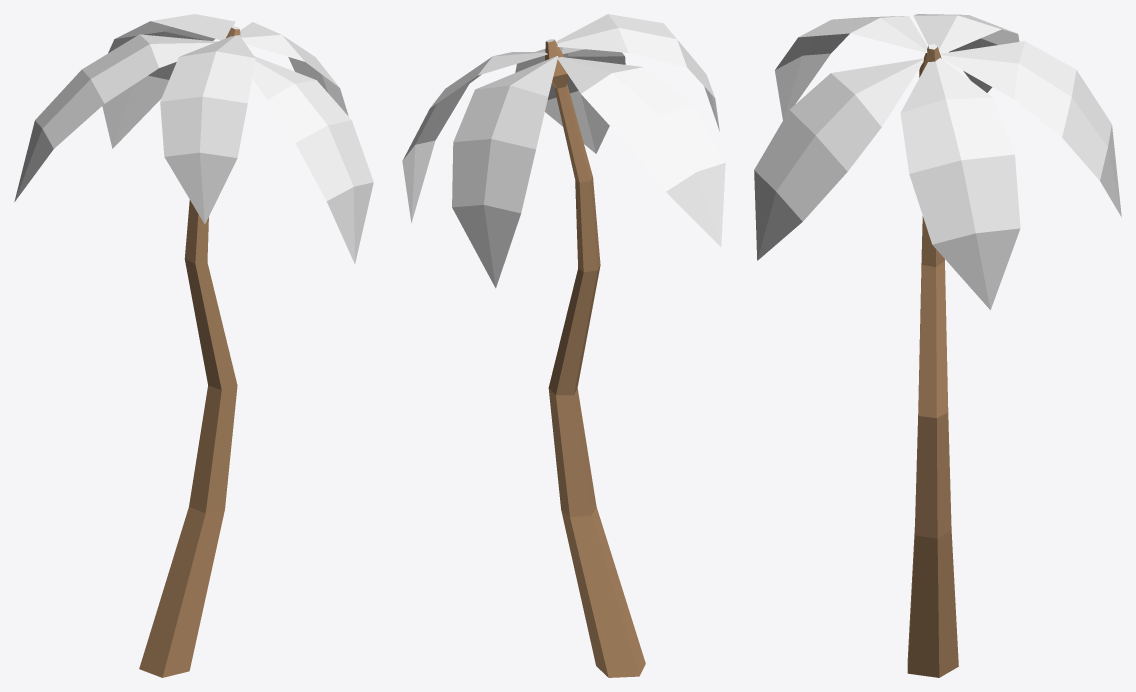
The model's file is Palm_Tree_OneSided_s_Snow_04_LOD.fbx.
3 views of the same model, side by side, from view 1: azimuth 30°, elevation 25°; view 2: azimuth 150°, elevation 25°; view 3: azimuth 270°, elevation 25° (orthographic). The views are drawn at different scales.
Parts seen in each view (by area): view 1: Palm_Tree_OneSided_s_Snow_04_LOD0; view 2: Palm_Tree_OneSided_s_Snow_04_LOD0; view 3: Palm_Tree_OneSided_s_Snow_04_LOD0.
Part boxes in pixels (x1,y1,x2,y2): Palm_Tree_OneSided_s_Snow_04_LOD0: (14,14,373,677); Palm_Tree_OneSided_s_Snow_04_LOD0: (402,14,725,677); Palm_Tree_OneSided_s_Snow_04_LOD0: (754,14,1121,677).
Size of what is drawn, in the model's own units: 243 by 462 by 232.
